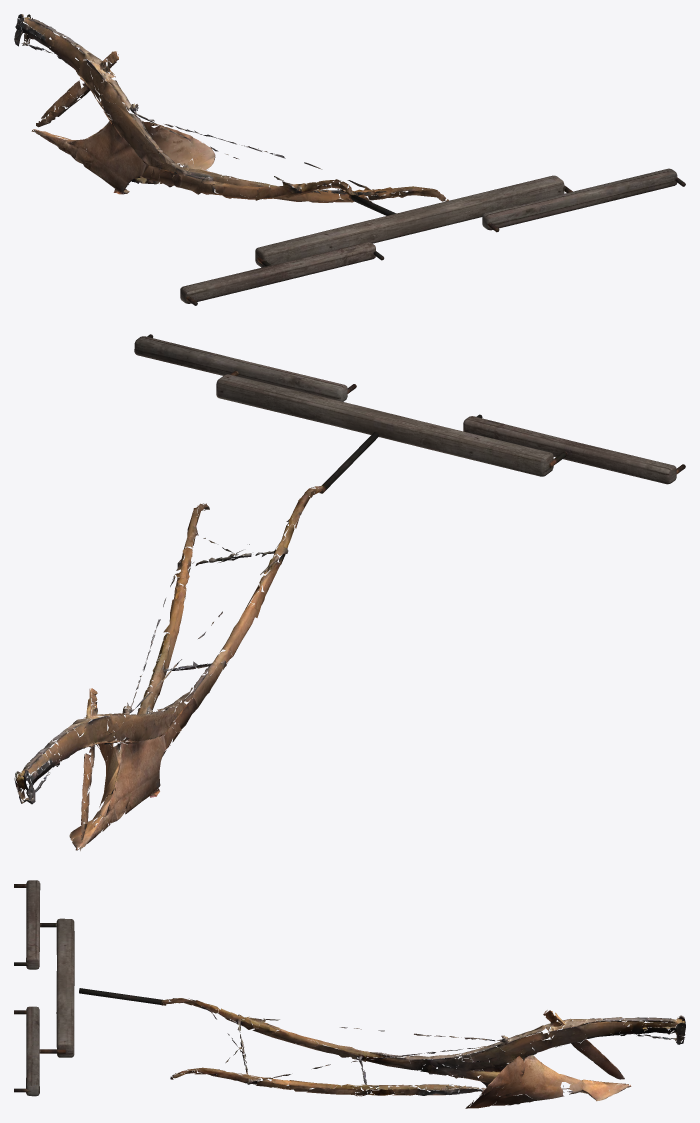
The model's file is implement_plow.glb.
3 renders of one model, top to bottom at view 1: azimuth 30°, elevation 25°; view 2: azimuth 150°, elevation 25°; view 3: azimuth 270°, elevation 25°, orthographic. The views are drawn at different scales.
Parts seen in each view (by area): view 1: Body_LOD0; view 2: Body_LOD0; view 3: Body_LOD0.
Part boxes in pixels (x1,y1,x2,y2): Body_LOD0: (14,14,685,305); Body_LOD0: (14,334,685,850); Body_LOD0: (14,880,685,1108).
Size of what is drawn, in the model's own units: 1.79 by 0.536 by 2.47.
1 material, 1 textured.
